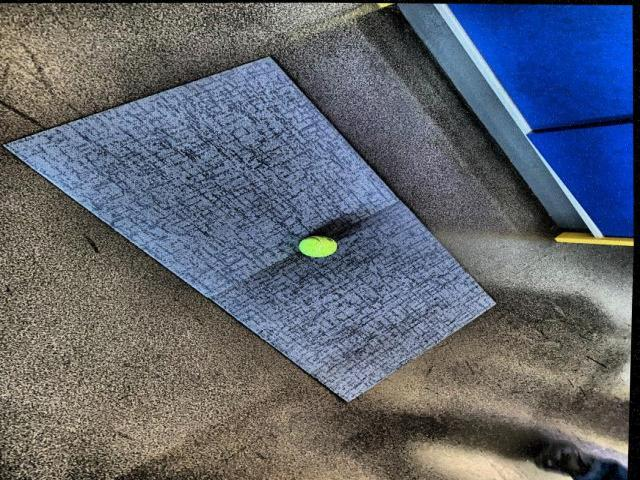tennis-ball: (299, 235, 338, 258)
